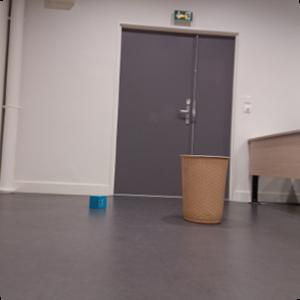medium: (179, 154, 229, 225)
small: (89, 193, 108, 211)
